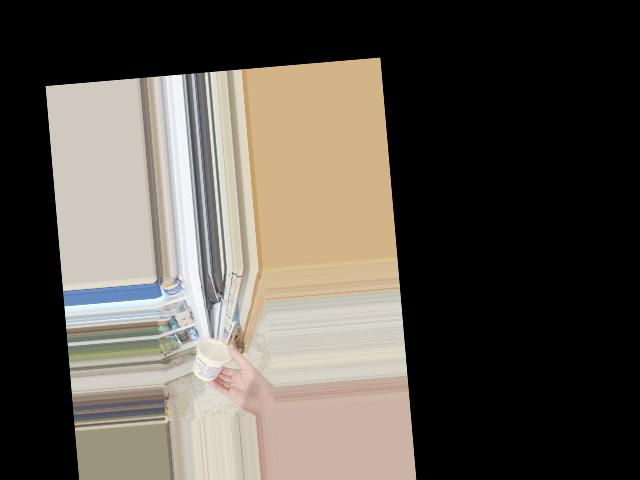cotage: (192, 336, 228, 380)
